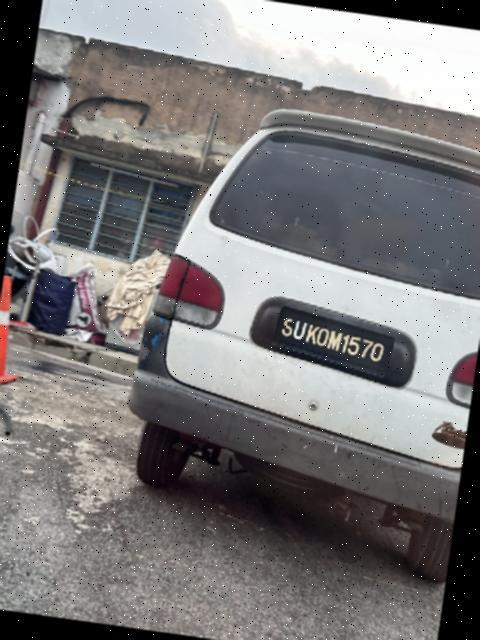License_Plate: (269, 302, 401, 381)
SUKOM1570: (269, 302, 401, 381)
van: (103, 81, 480, 586)
